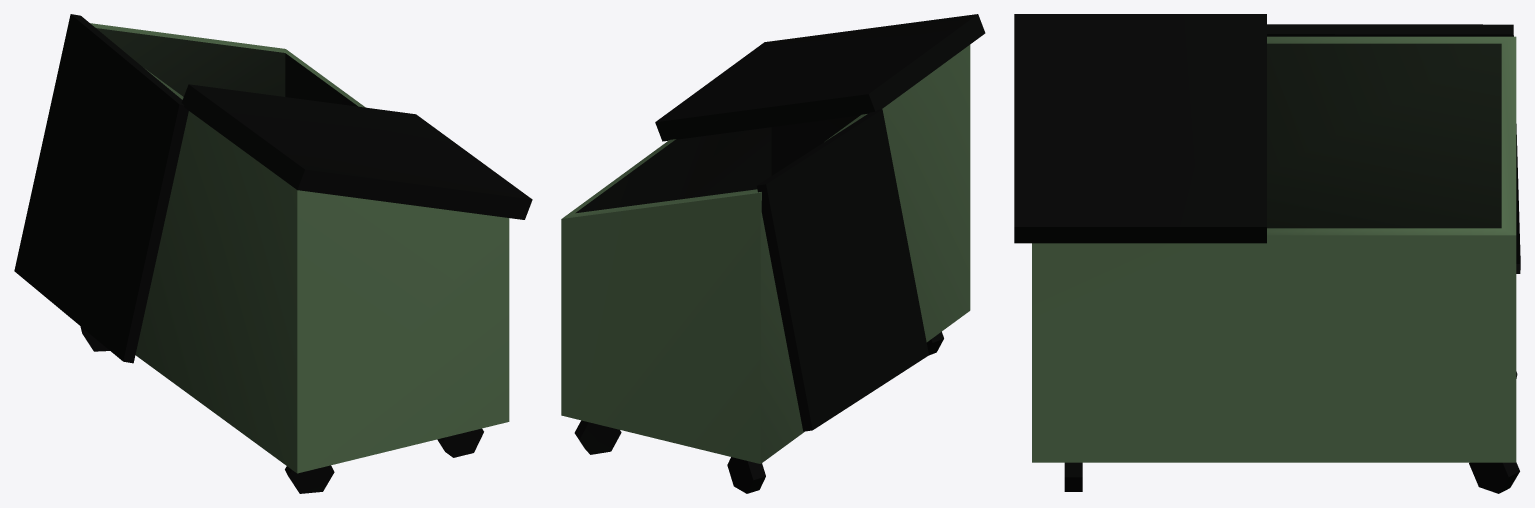
The model's file is Dumpster_Open.fbx.
3 renders of one model, left to right at view 1: azimuth 30°, elevation 25°; view 2: azimuth 150°, elevation 25°; view 3: azimuth 270°, elevation 25°, orthographic. The views are drawn at different scales.
Visible parts, largest first — view 1: Dumpster_Open; view 2: Dumpster_Open; view 3: Dumpster_Open.
Boxes of the visible parts, bbox=[...] form: Dumpster_Open: bbox=[14, 14, 532, 493]; Dumpster_Open: bbox=[561, 14, 985, 493]; Dumpster_Open: bbox=[1014, 14, 1520, 493].
Bounding box in the file's own units: 0.0866 × 0.0983 × 0.1199.
